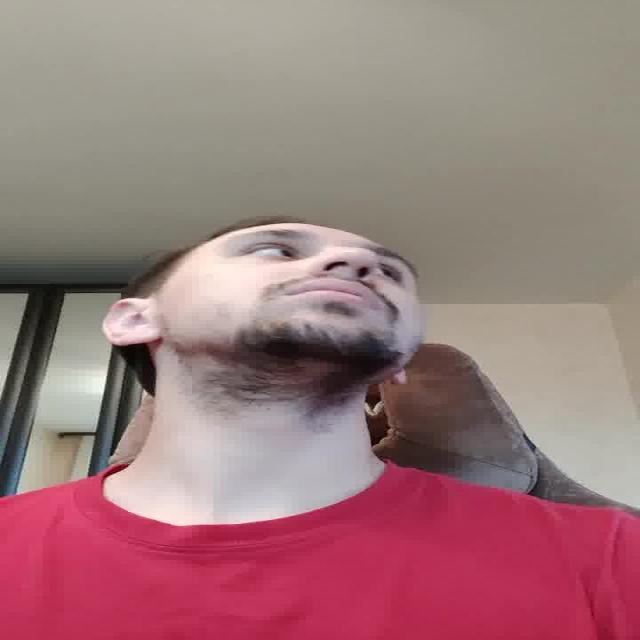earlobe: (110, 333, 162, 345), (389, 371, 410, 385)
eye: (247, 244, 297, 261), (374, 261, 402, 282)
nose: (311, 264, 374, 284)
wholeear: (105, 298, 161, 346)
